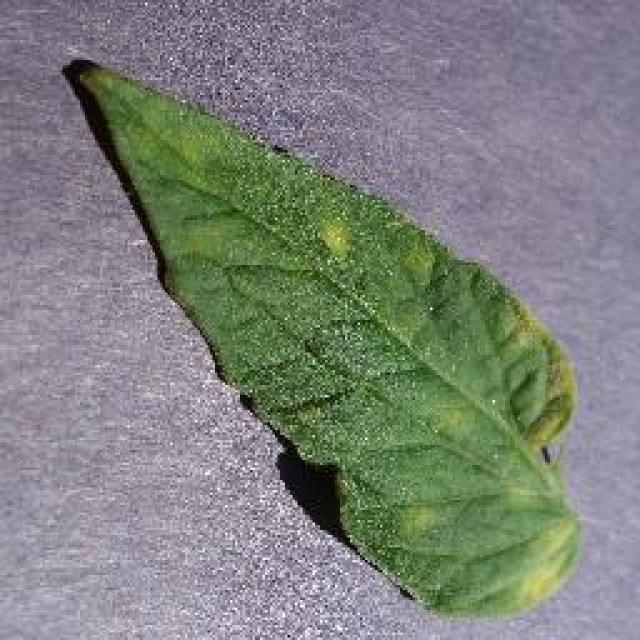Tomato___Leaf_Mold: (78, 65, 578, 612)
